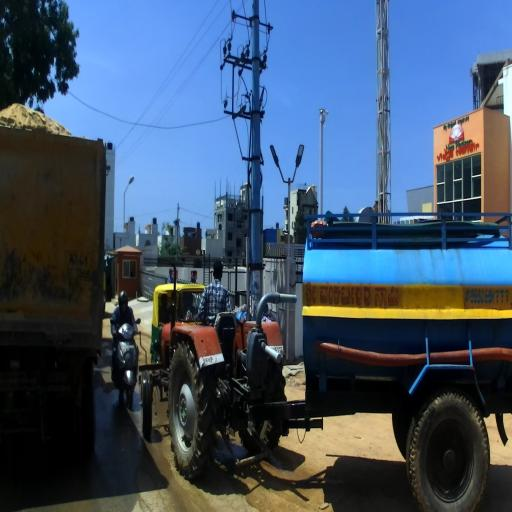street_light_0: (124, 176, 134, 195)
